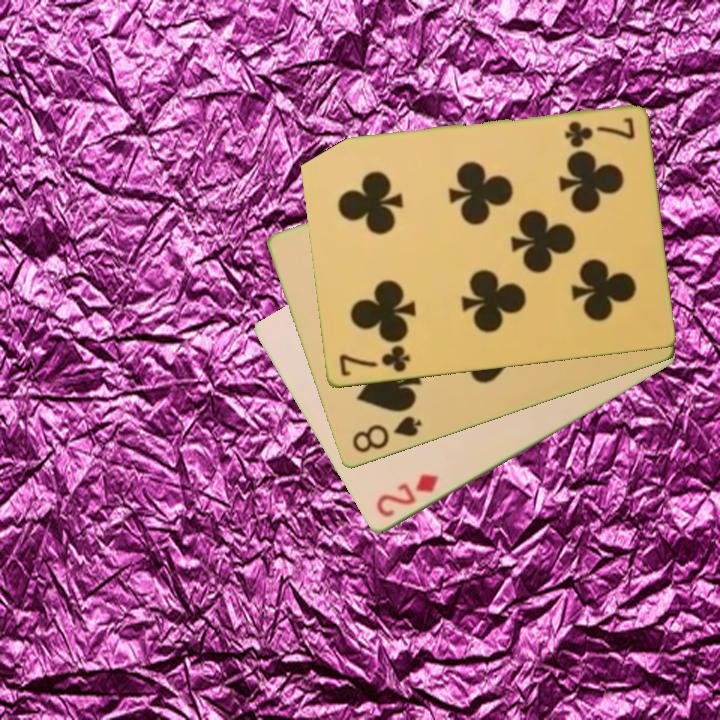2d: (372, 470, 442, 522)
7c: (334, 342, 412, 380), (561, 114, 638, 149)
8s: (348, 413, 425, 457)
